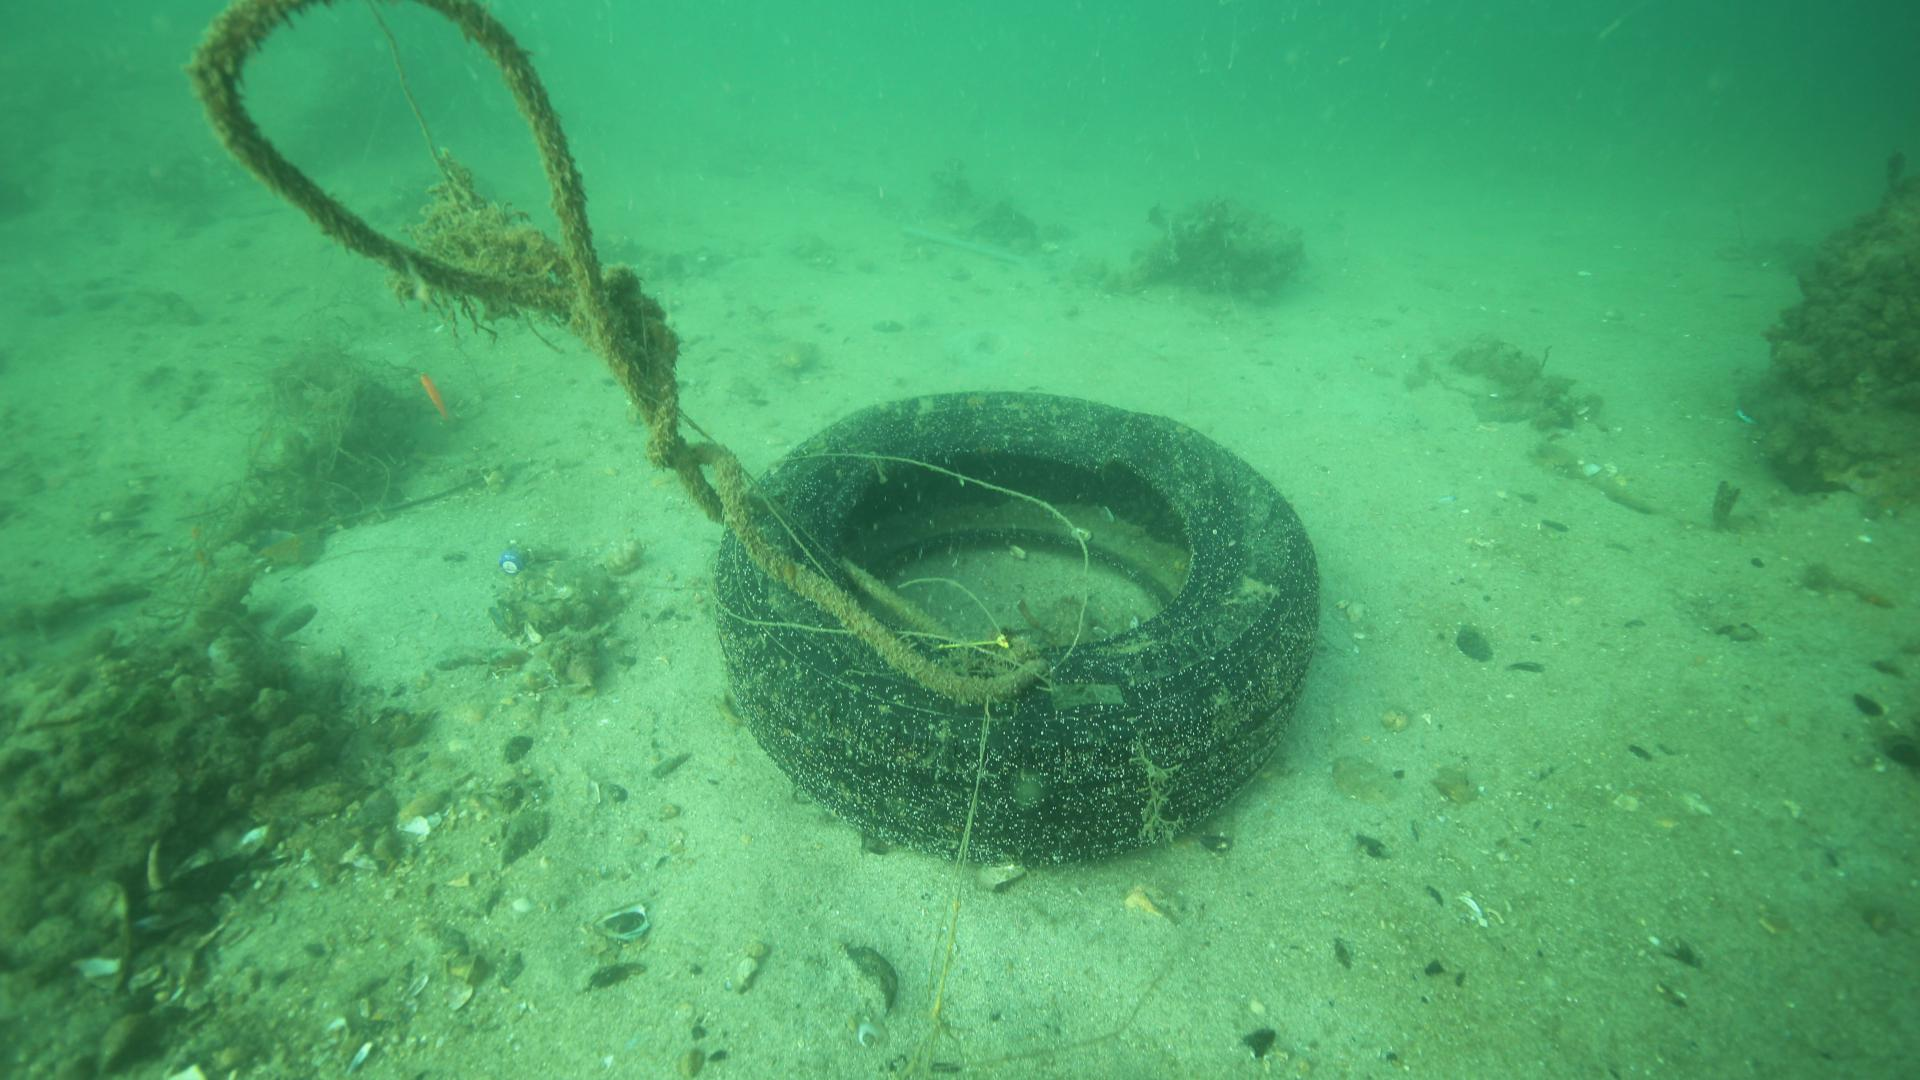bundle of ropes: (319, 0, 1048, 704)
tire: (707, 388, 1324, 870)
